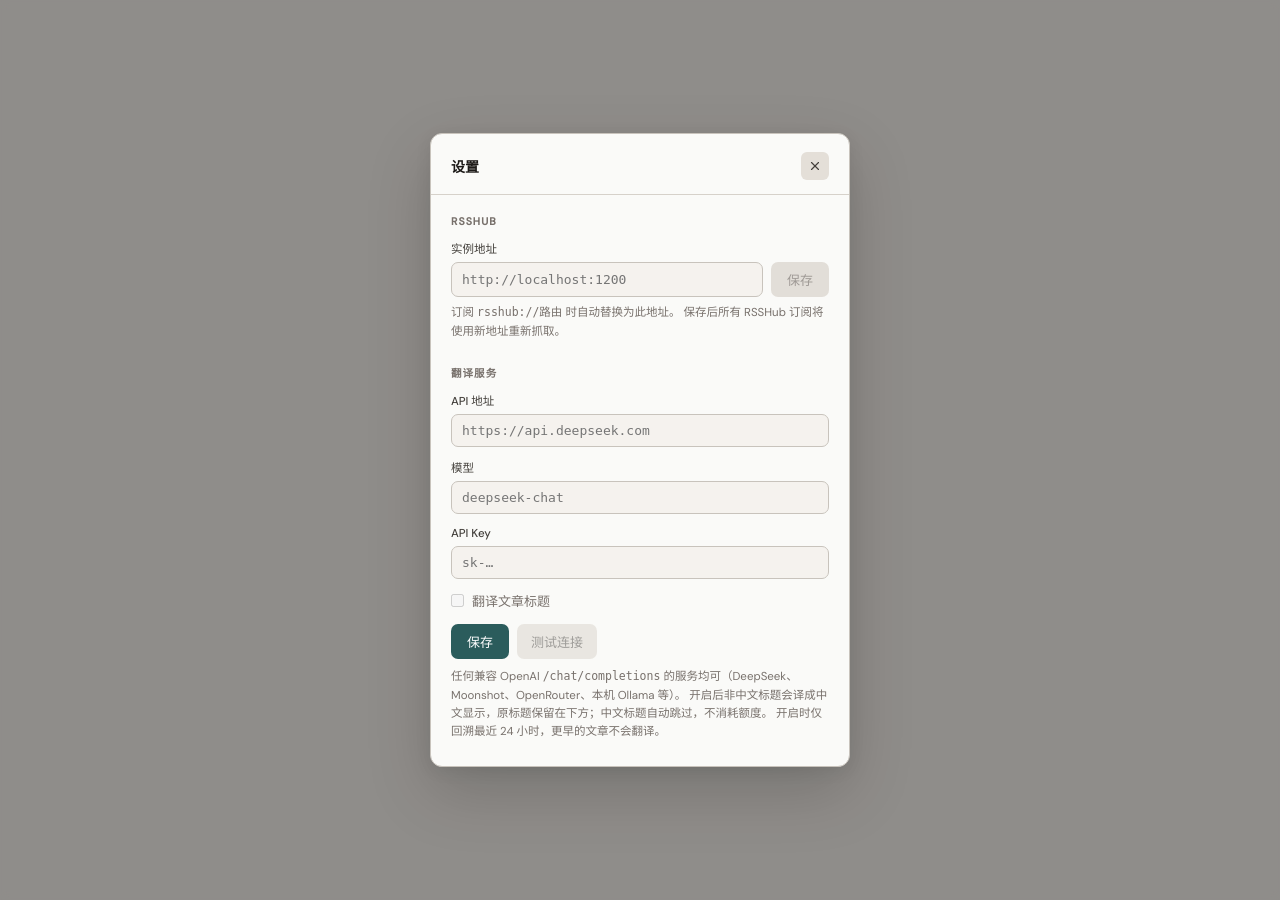
Scenario: SettingsModal translation service › enables 测试连接 once the key is saved
Expected: the button "测试连接" is disabled, x1=517 y1=624 x2=597 y2=659
Type "sk-first-key" into the password field with placeholder "sk-…". click: (640, 563)
box: x1=451 y1=546 x2=829 y2=579
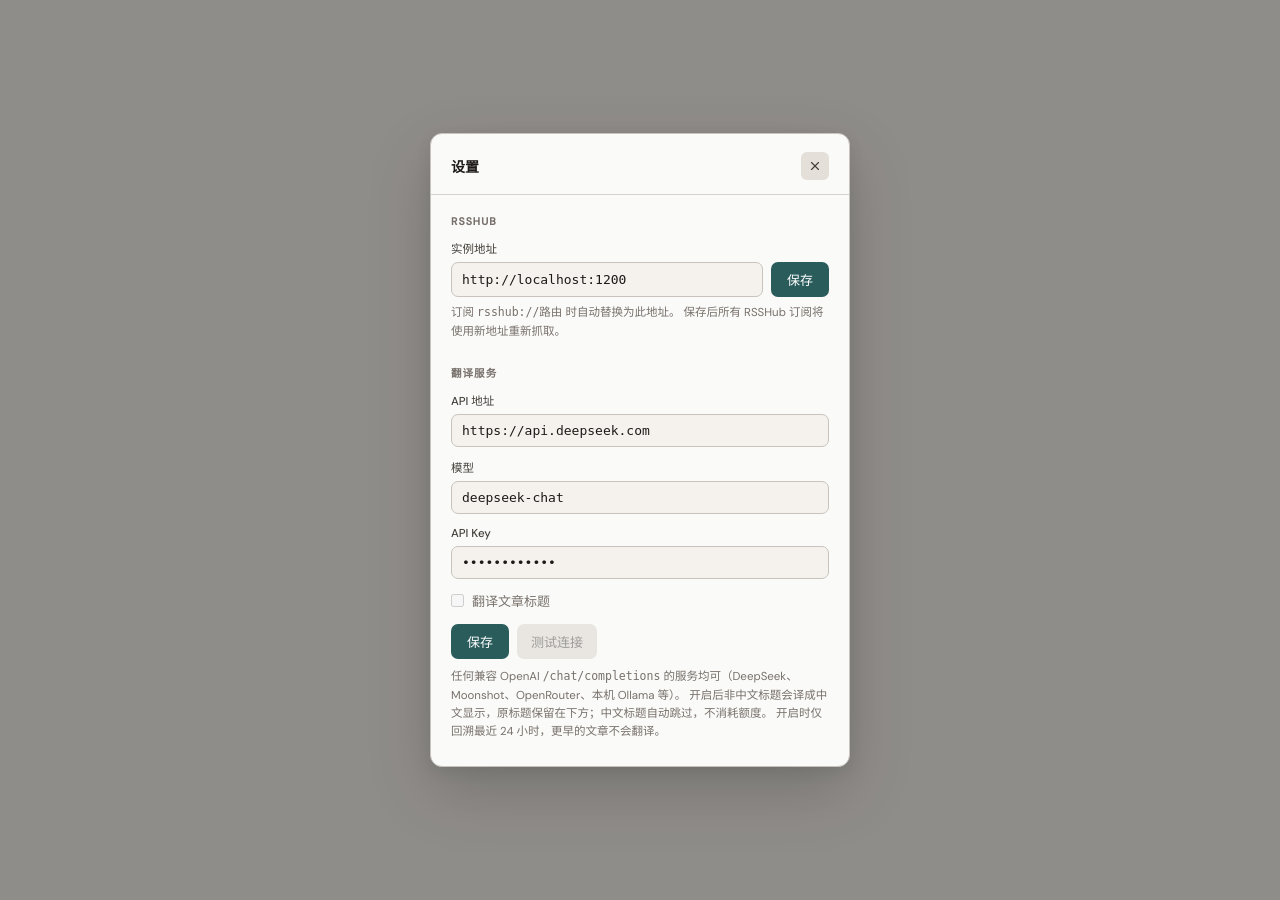
Click the 2nd button "保存". click: (480, 642)
box: x1=451 y1=624 x2=509 y2=659
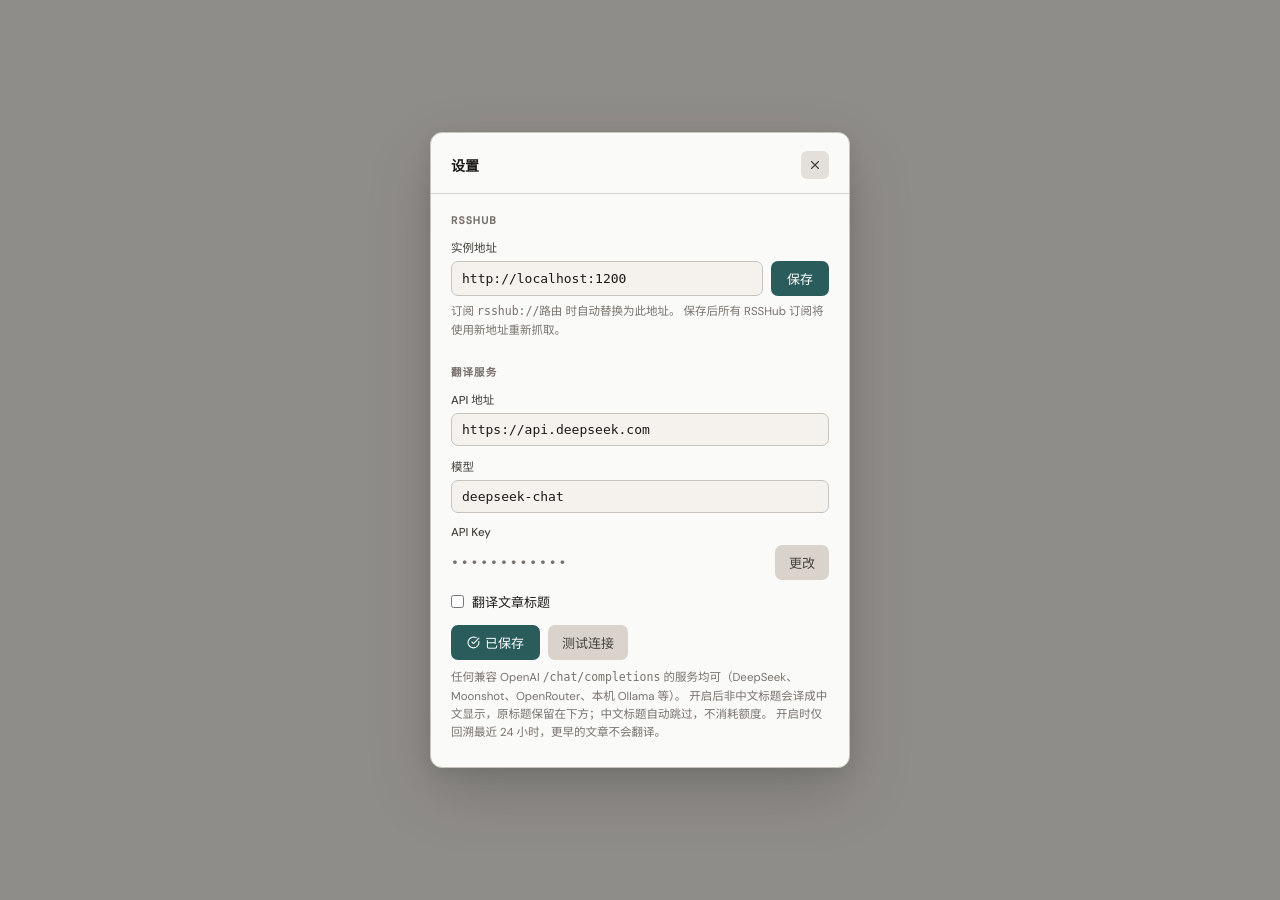
Expected: the button "测试连接" is enabled, x1=548 y1=625 x2=628 y2=660
